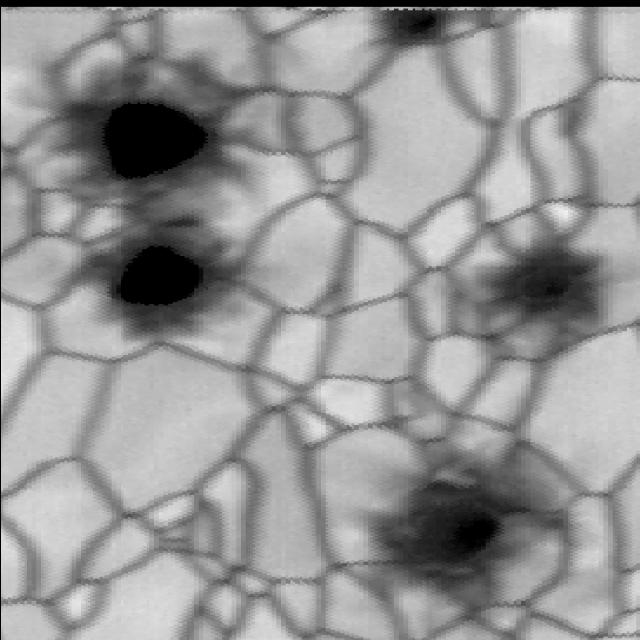good_void: (14, 48, 294, 355), (333, 421, 593, 632), (462, 221, 629, 353), (371, 8, 560, 51)
